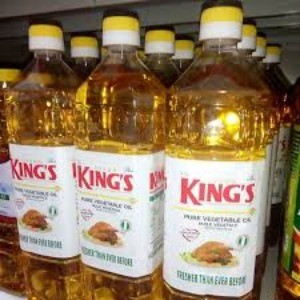vegetable oil_brain food: (161, 107, 248, 278), (8, 76, 70, 291), (81, 82, 150, 275)
